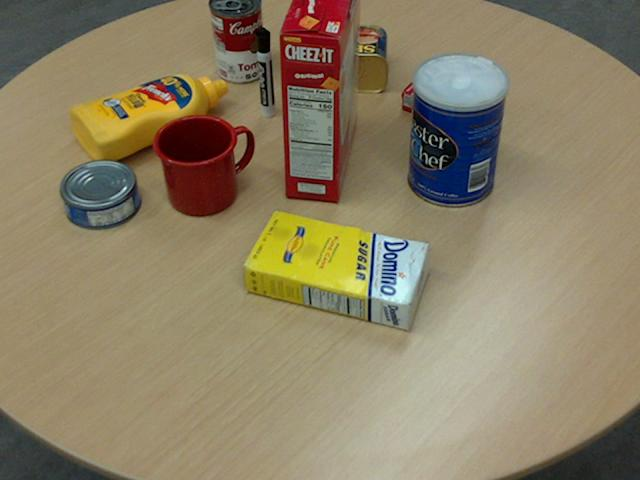cracker_box: (277, 0, 362, 200)
gelatin_box: (402, 58, 483, 123)
large_marker: (256, 26, 274, 115)
master_chef_can: (408, 52, 508, 207)
mug: (151, 112, 252, 214)
mustard_bottle: (69, 72, 228, 160)
potted_meat_can: (311, 23, 389, 91)
sugar_box: (239, 210, 430, 331)
tomato_soup_can: (211, 0, 266, 79)
tuna_fish_can: (59, 157, 139, 226)
